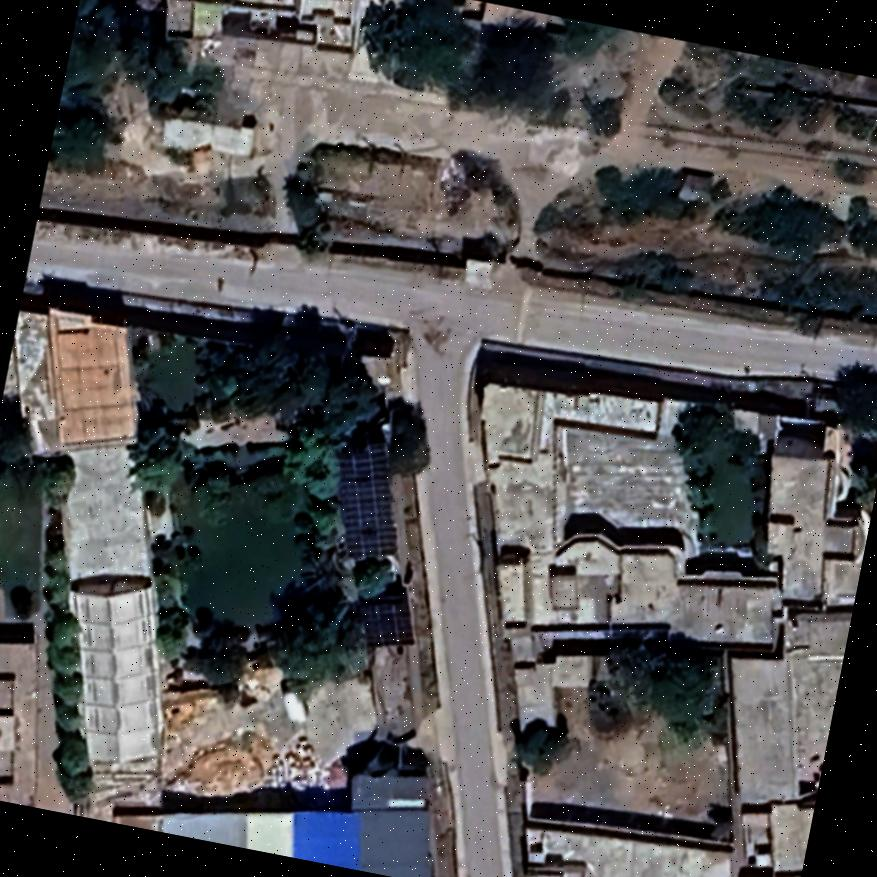Solarpanel: (335, 440, 401, 559), (349, 585, 419, 652)
